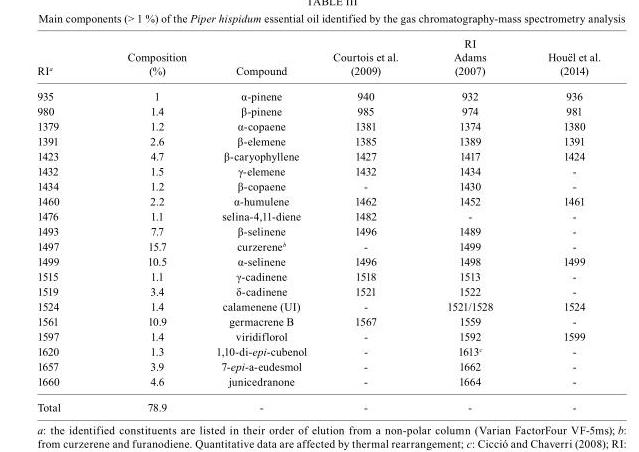table: (36, 36, 599, 412)
table column: (200, 36, 319, 412), (93, 36, 200, 412), (319, 36, 421, 412), (421, 36, 519, 412), (519, 36, 599, 412), (36, 36, 93, 412)
table column header: (36, 36, 599, 82)
table row: (36, 36, 599, 82), (36, 82, 599, 103), (36, 373, 599, 393), (36, 393, 599, 412), (36, 103, 599, 118), (36, 118, 599, 133), (36, 133, 599, 148), (36, 148, 599, 163), (36, 163, 599, 178), (36, 178, 599, 193), (36, 193, 599, 208), (36, 208, 599, 223), (36, 223, 599, 238), (36, 238, 599, 253), (36, 253, 599, 268), (36, 268, 599, 283), (36, 283, 599, 298), (36, 298, 599, 313), (36, 313, 599, 328), (36, 328, 599, 343), (36, 343, 599, 358), (36, 358, 599, 373)
